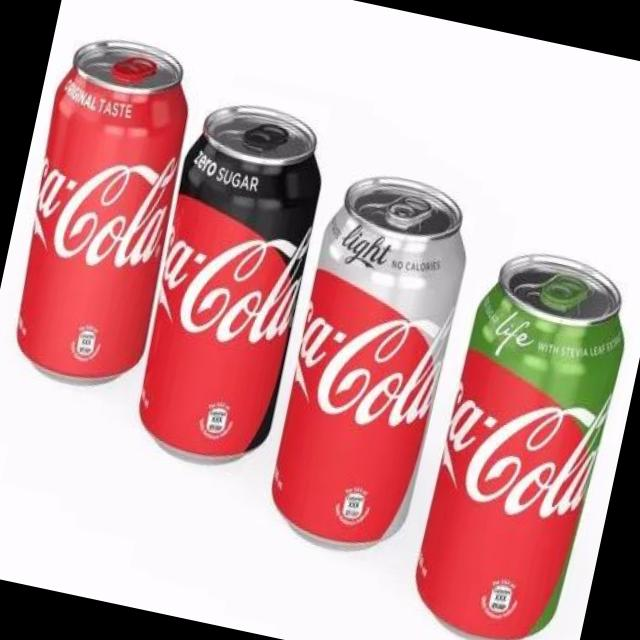cocacola: (0, 32, 206, 398)
